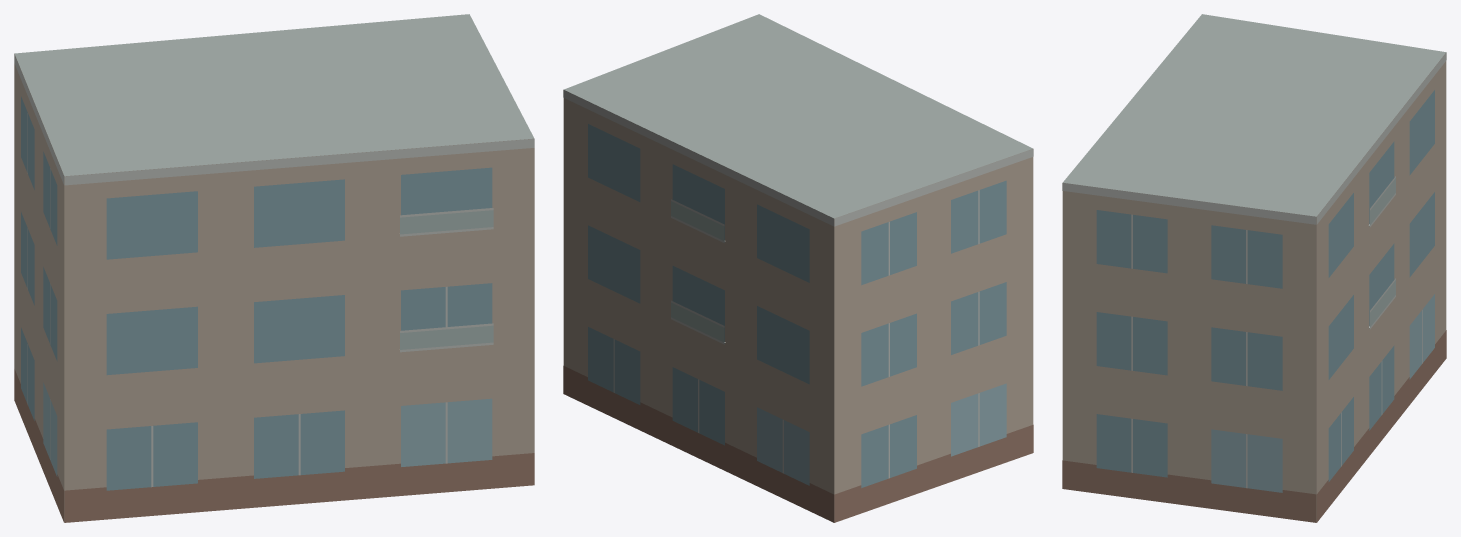
File: survey-upis-32523256.glb
3 renders of one model, left to right at view 1: azimuth 30°, elevation 25°; view 2: azimuth 150°, elevation 25°; view 3: azimuth 270°, elevation 25°, orthographic. The views are drawn at different scales.
Visible parts, largest first — view 1: survey-upis-32523256.tmp; view 2: survey-upis-32523256.tmp; view 3: survey-upis-32523256.tmp.
Part boxes in pixels (left/top/right/bottom): survey-upis-32523256.tmp: left=14, top=14, right=534, bottom=522; survey-upis-32523256.tmp: left=563, top=14, right=1033, bottom=522; survey-upis-32523256.tmp: left=1062, top=14, right=1446, bottom=522.
Size of the model in its own units: 13 by 9.15 by 10.41.
